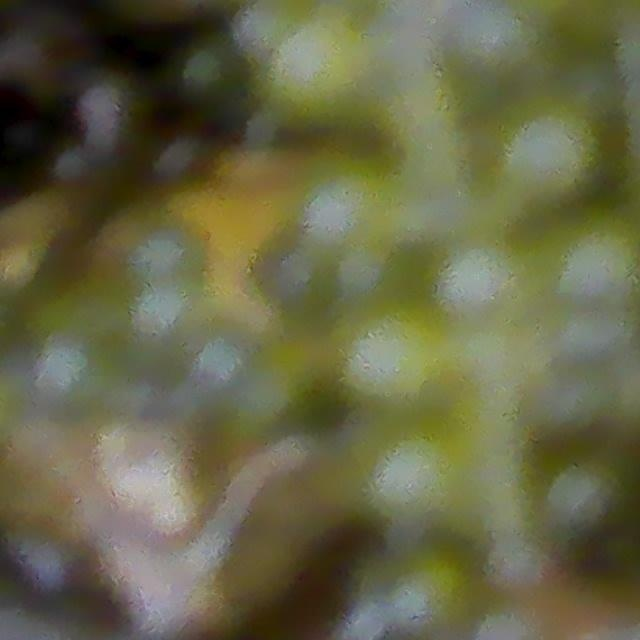SeaGrape: (329, 291, 455, 413), (481, 87, 604, 208), (257, 7, 372, 126), (544, 208, 640, 309), (437, 235, 527, 318), (545, 454, 626, 533)
